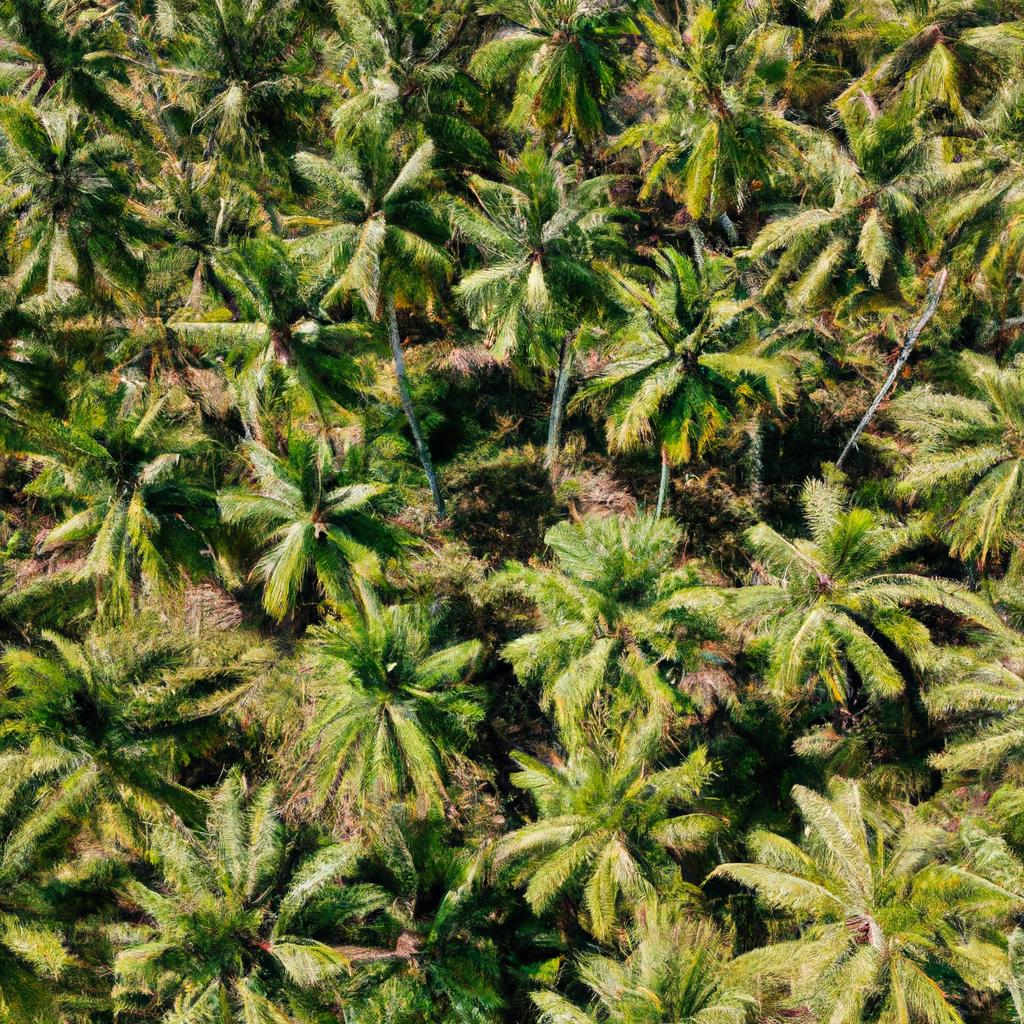coconut_tree: (718, 750, 1018, 1023), (117, 781, 415, 1023), (486, 485, 746, 728), (727, 458, 926, 710), (489, 729, 729, 928), (297, 601, 508, 815), (199, 424, 413, 604), (602, 256, 784, 465), (465, 132, 610, 364), (265, 143, 456, 308)
